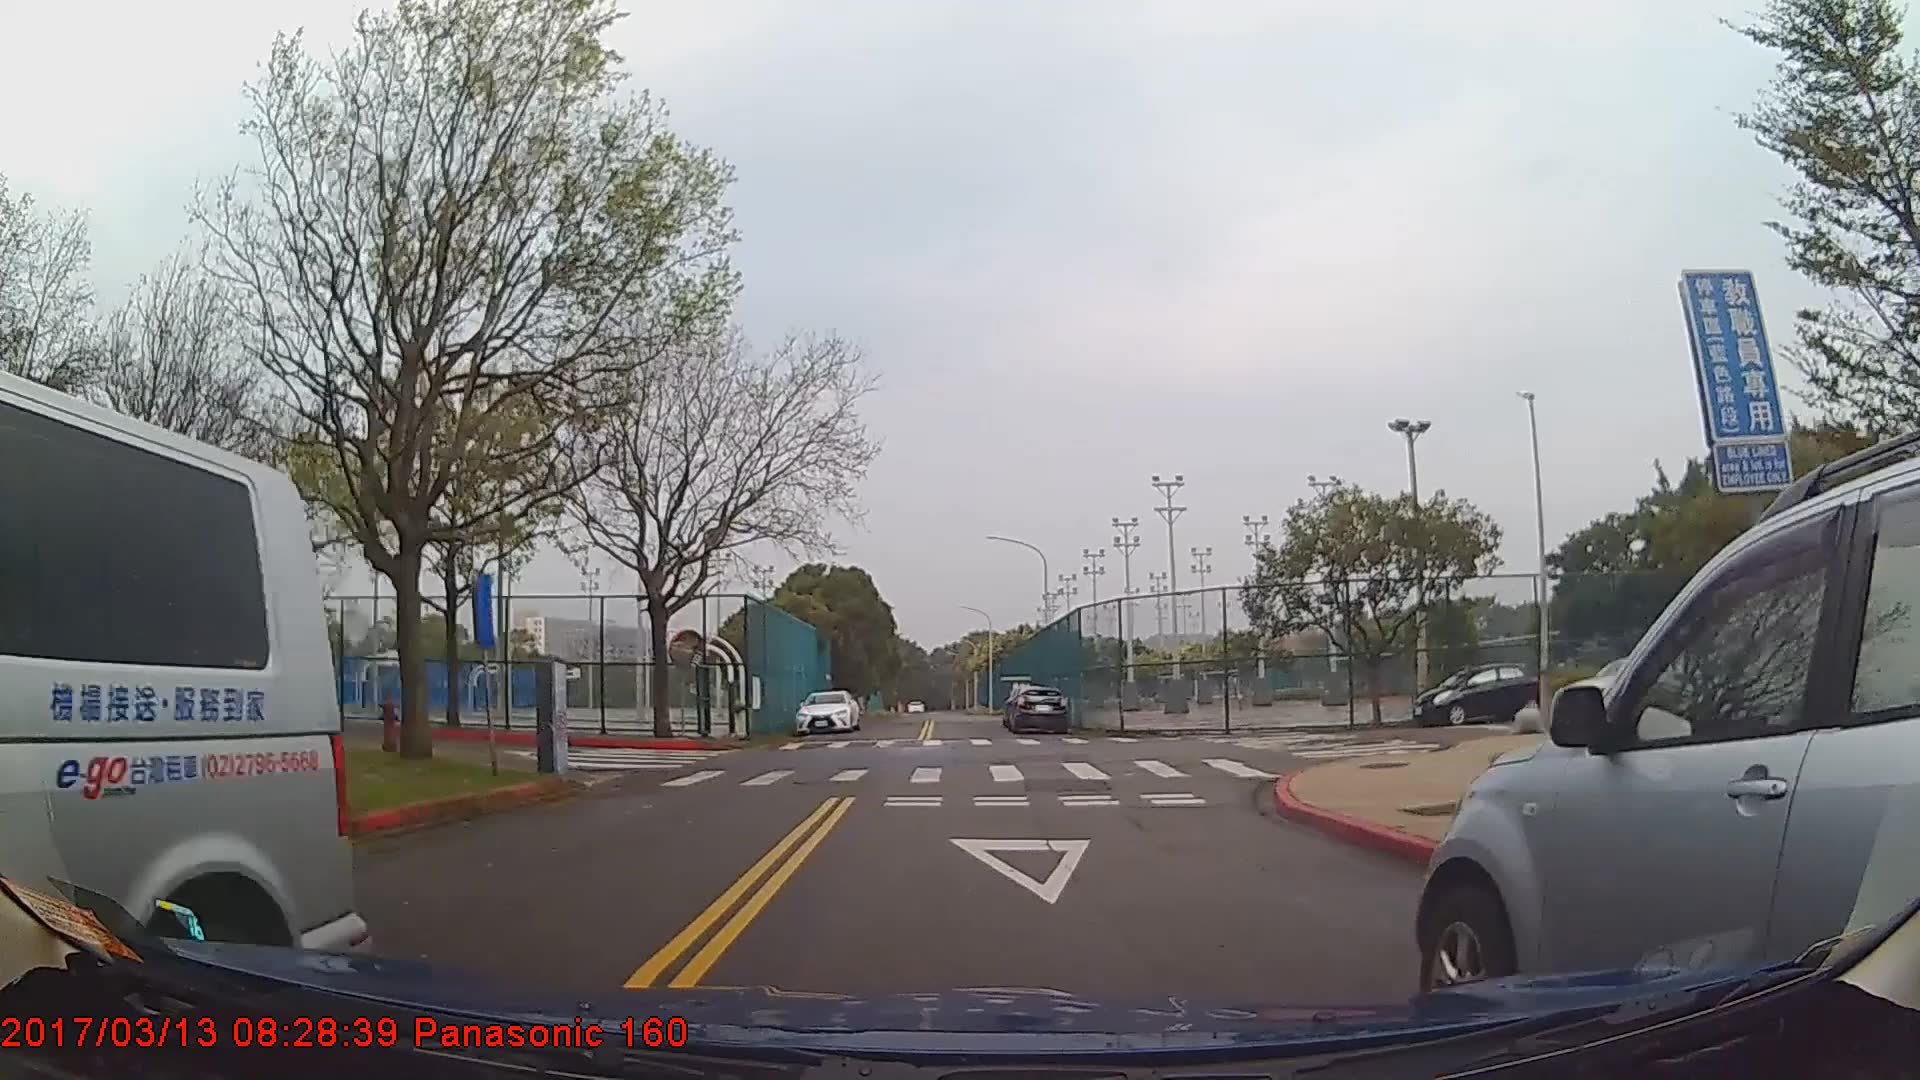vehicle: (1411, 450, 1920, 1044), (0, 357, 360, 1051), (1412, 665, 1542, 727), (1006, 682, 1069, 735), (796, 688, 858, 735)
